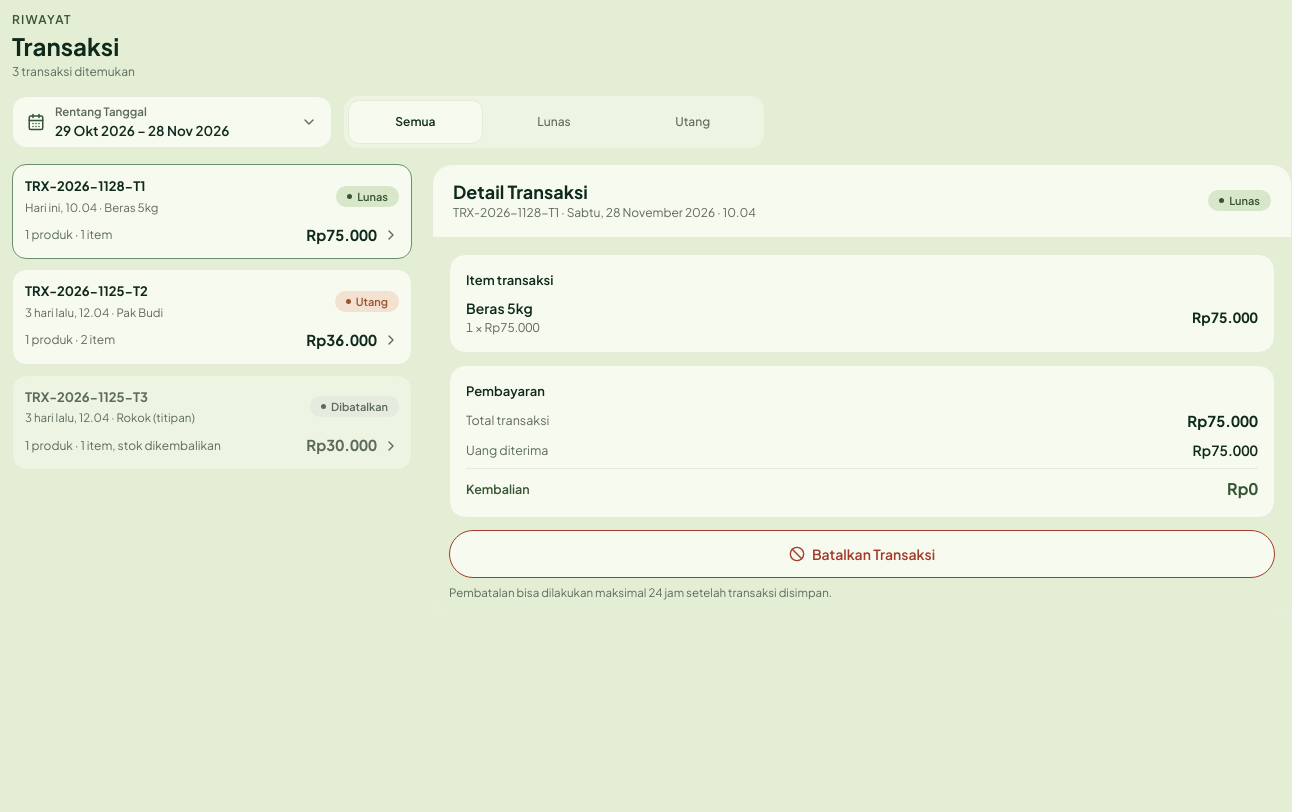
it: Riwayat lg+ (master-detail) › transaksi pertama terpilih otomatis; memilih kartu lain mengganti panel detail
The width and height of the screenshot is (1292, 812).
Expected: the heading "Detail Transaksi" is shown, top-left (453, 180), bottom-right (588, 203)
Expected: the 2nd text "Rp75.000" is shown, top-left (1192, 307), bottom-right (1258, 327)
What coordinates should you click on to do the following:
click the button "Rp36.000"
I would click on:
 (86, 291)
Its box is top-left (12, 269), bottom-right (412, 365).
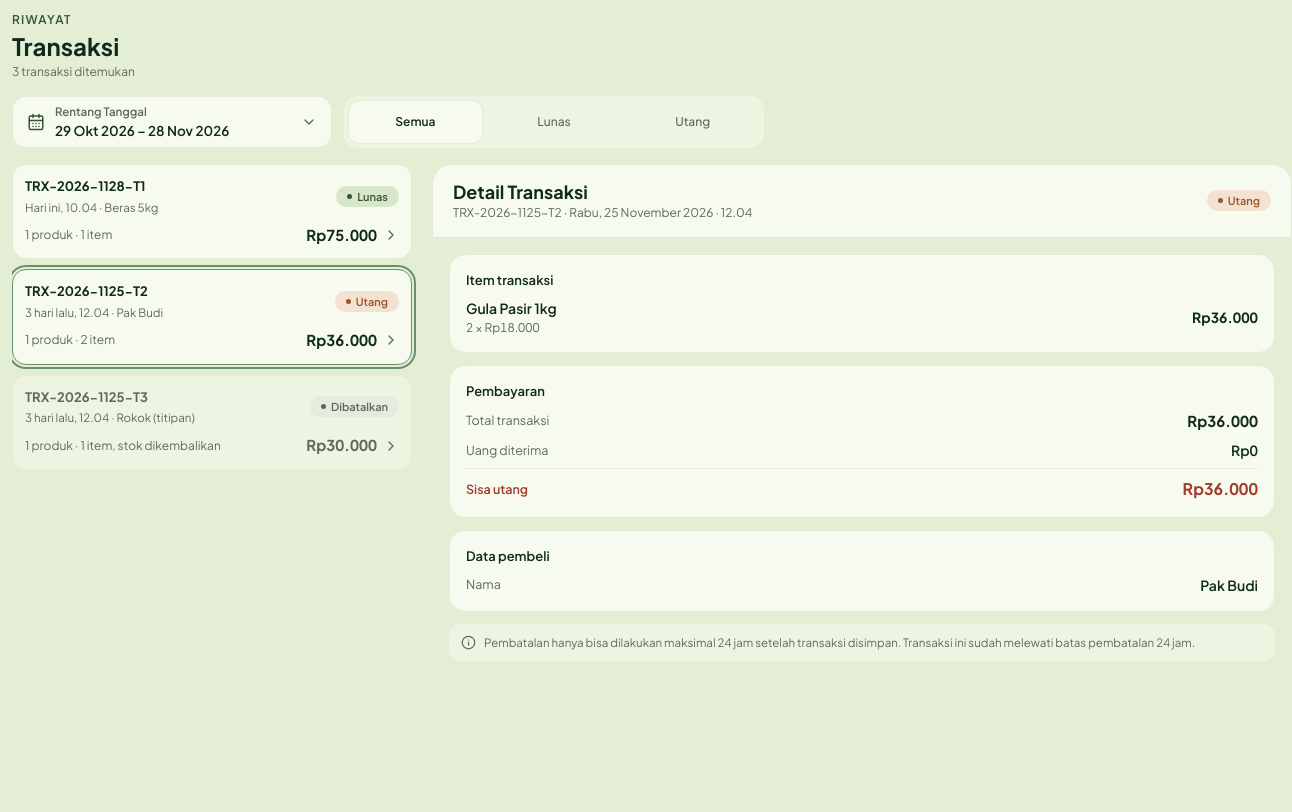
Expected: the button with aria-label "Ubah rentang tanggal" is shown, top-left (12, 96), bottom-right (332, 148)
Result: the text "sudah melewati batas pembatalan 24 jam" is shown at top-left (484, 634), bottom-right (1195, 650)
Result: the button "Batalkan Transaksi" is gone
